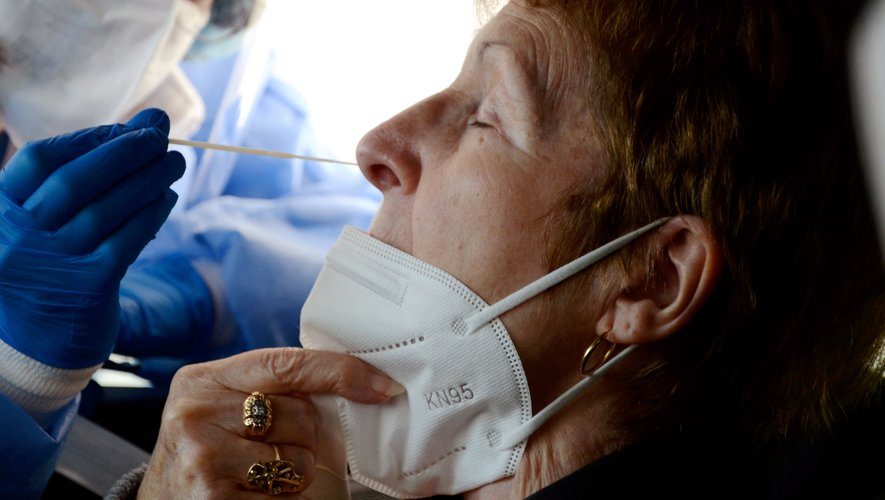with_incorrect_mask: (314, 73, 625, 366)
